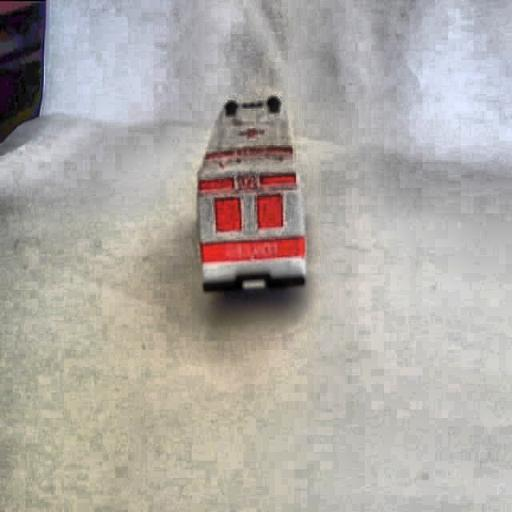ambulance: (196, 95, 307, 292)
